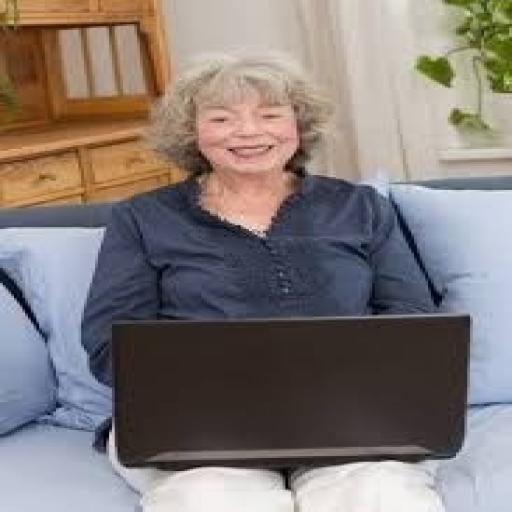using_laptop: (106, 311, 473, 469)
